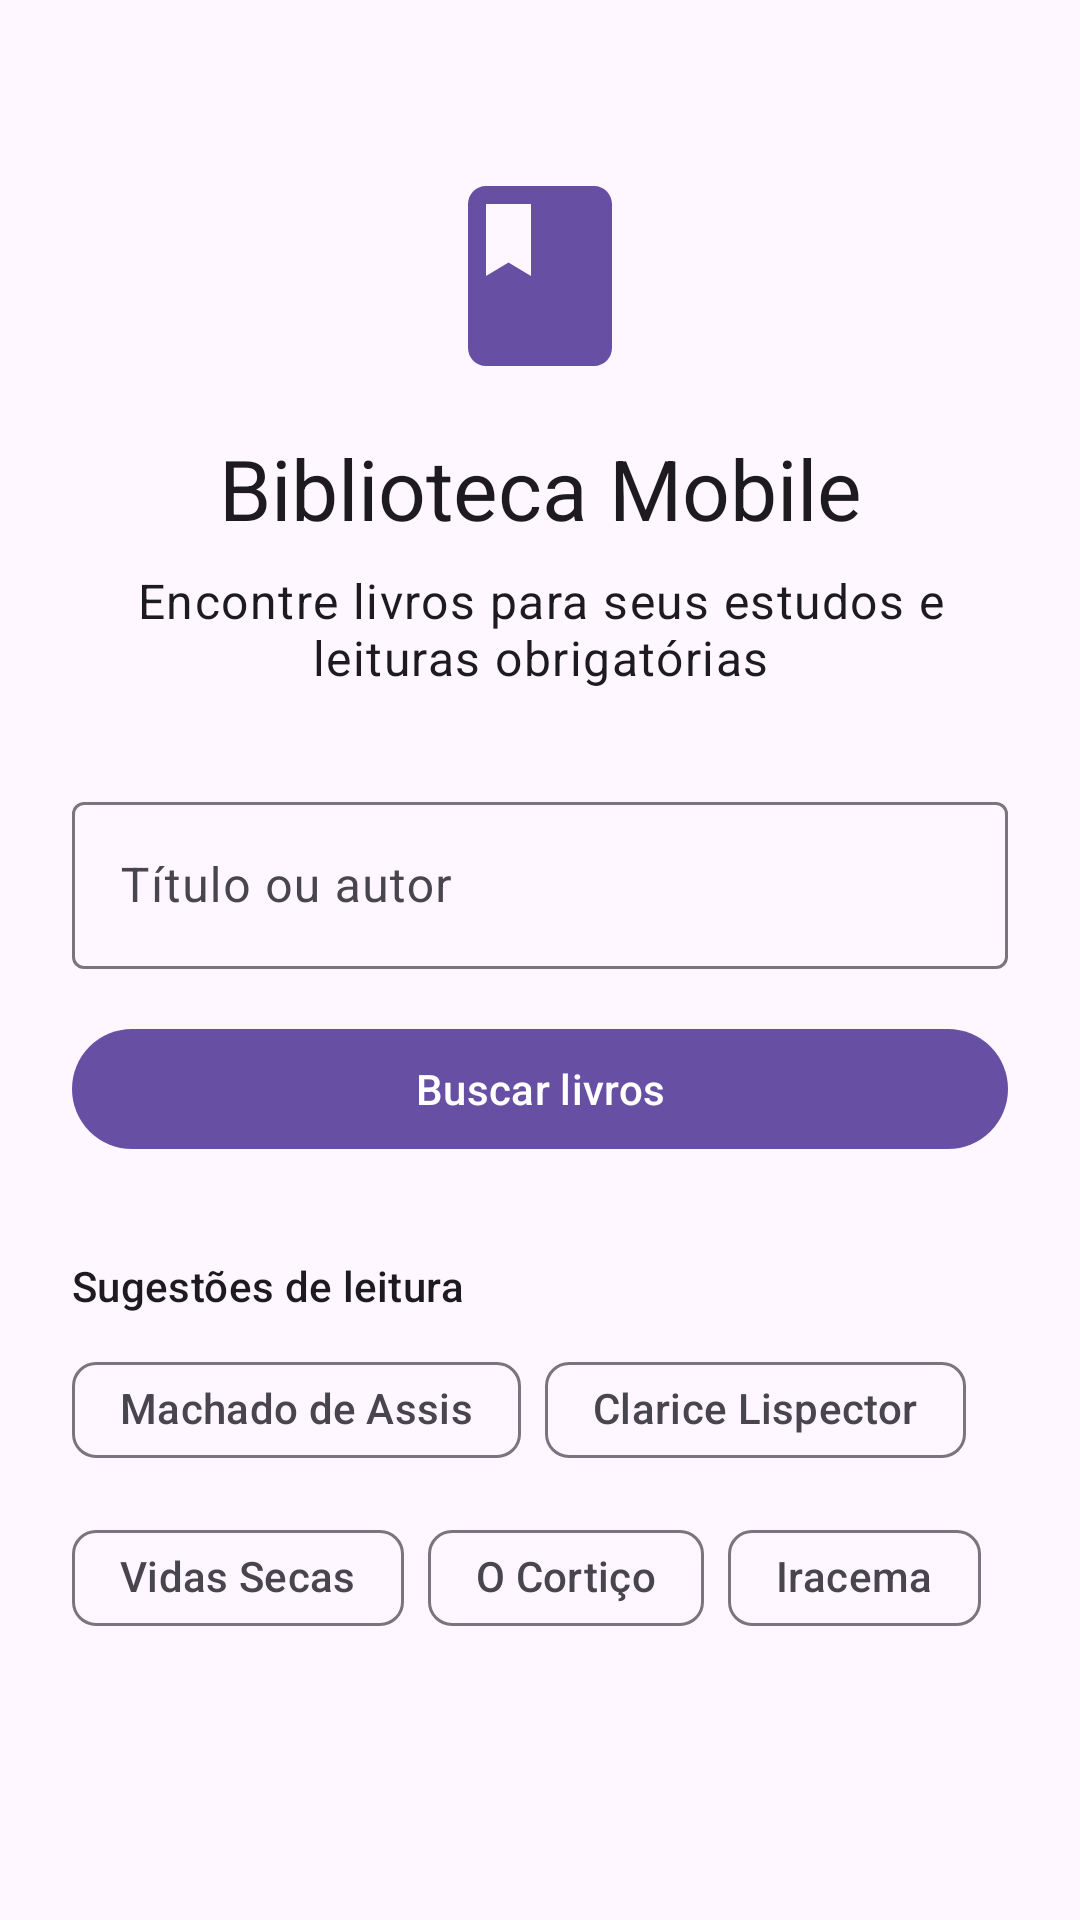

Where icons sit on this 1080px x 1920px app screen, as Rect(x1, y1, x2, y2):
livro: Rect(468, 186, 612, 366)
